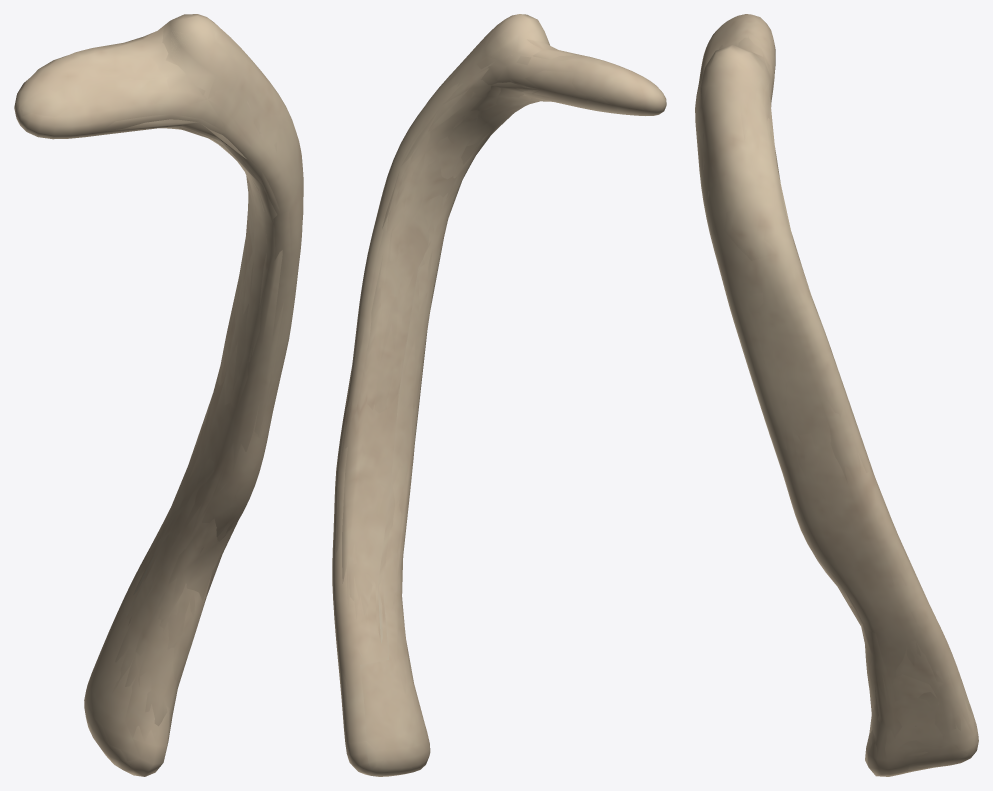
File: Rib L01.fbx
3 views of the same model, side by side, from view 1: azimuth 30°, elevation 25°; view 2: azimuth 150°, elevation 25°; view 3: azimuth 270°, elevation 25° (orthographic). The views are drawn at different scales.
Parts seen in each view (by area): view 1: Rib L01 high, Rib L01, Rib L01 low; view 2: Rib L01, Rib L01 high, Rib L01 low; view 3: Rib L01 high, Rib L01, Rib L01 low.
Boxes of the visible parts, x1,y1,x2,y2 form: Rib L01 high: (16, 14, 303, 775); Rib L01: (14, 14, 302, 776); Rib L01 low: (107, 27, 283, 726); Rib L01: (332, 14, 666, 776); Rib L01 high: (332, 14, 664, 776); Rib L01 low: (342, 39, 574, 680); Rib L01 high: (695, 15, 977, 776); Rib L01: (695, 14, 978, 776); Rib L01 low: (738, 37, 939, 773).
Bounding box in the file's own units: 5.56 × 14.45 × 5.22.
Materials: 1 (1 with a texture image).
